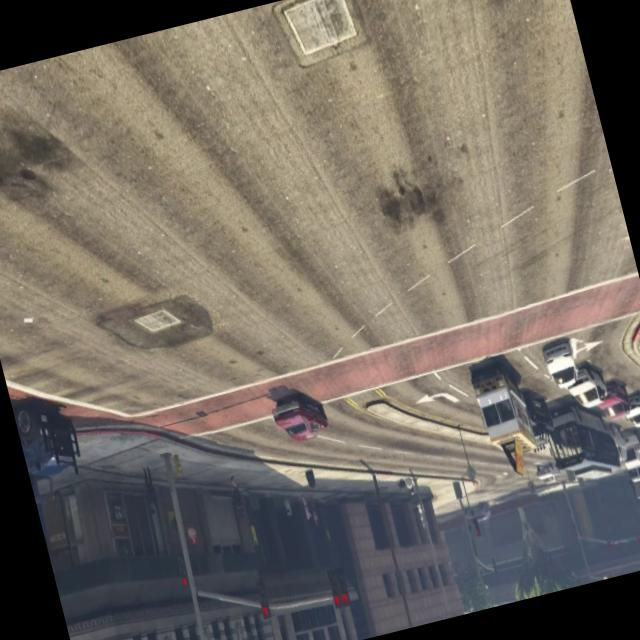Red-Signal: (159, 546, 204, 610), (243, 570, 287, 633), (315, 552, 354, 620)
